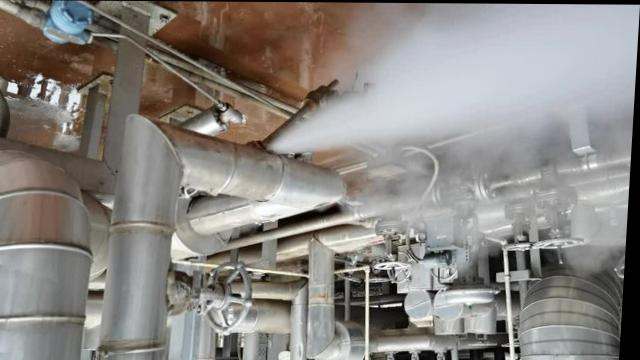leak: (260, 4, 634, 156)
